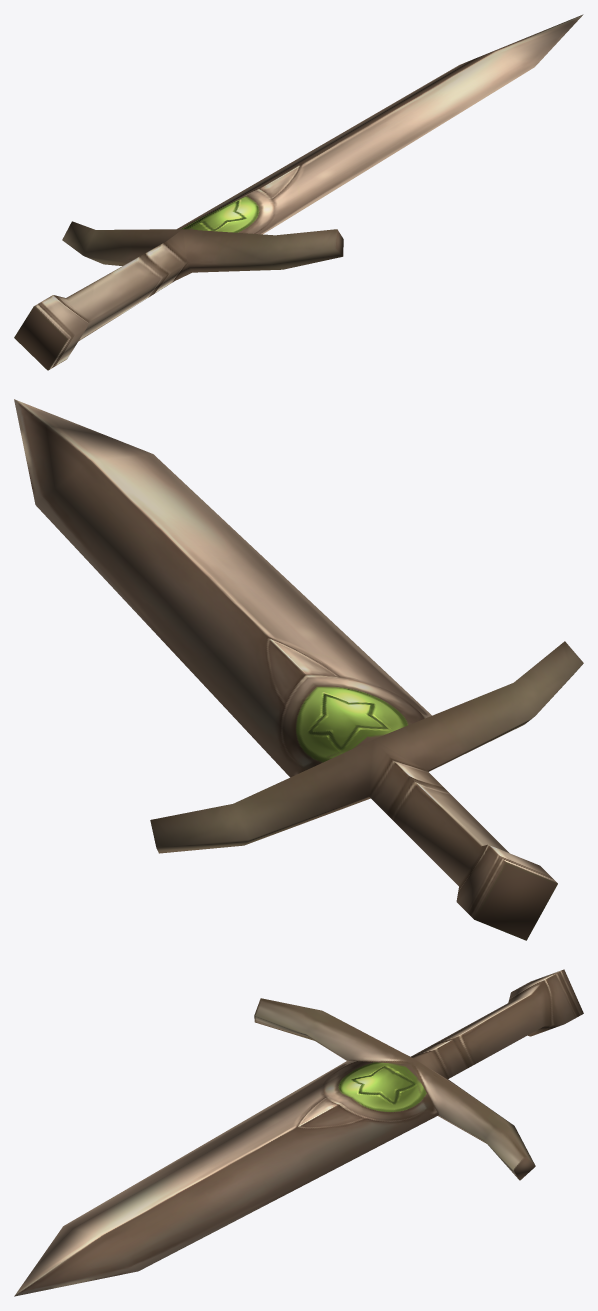
File: Sword(8).obj
3 renders of one model, top to bottom at view 1: azimuth 90°, elevation 25°; view 2: azimuth 150°, elevation 25°; view 3: azimuth 270°, elevation 25°, orthographic. The views are drawn at different scales.
Visible parts, largest first — view 1: sword1_LOD003; view 2: sword1_LOD003; view 3: sword1_LOD003.
Part boxes in pixels (box(x1,y1,x2,y2)): sword1_LOD003: box(14, 14, 583, 370); sword1_LOD003: box(14, 399, 583, 940); sword1_LOD003: box(14, 969, 583, 1296).
Bounding box in the file's own units: 1.13 × 0.1672 × 0.8533.
